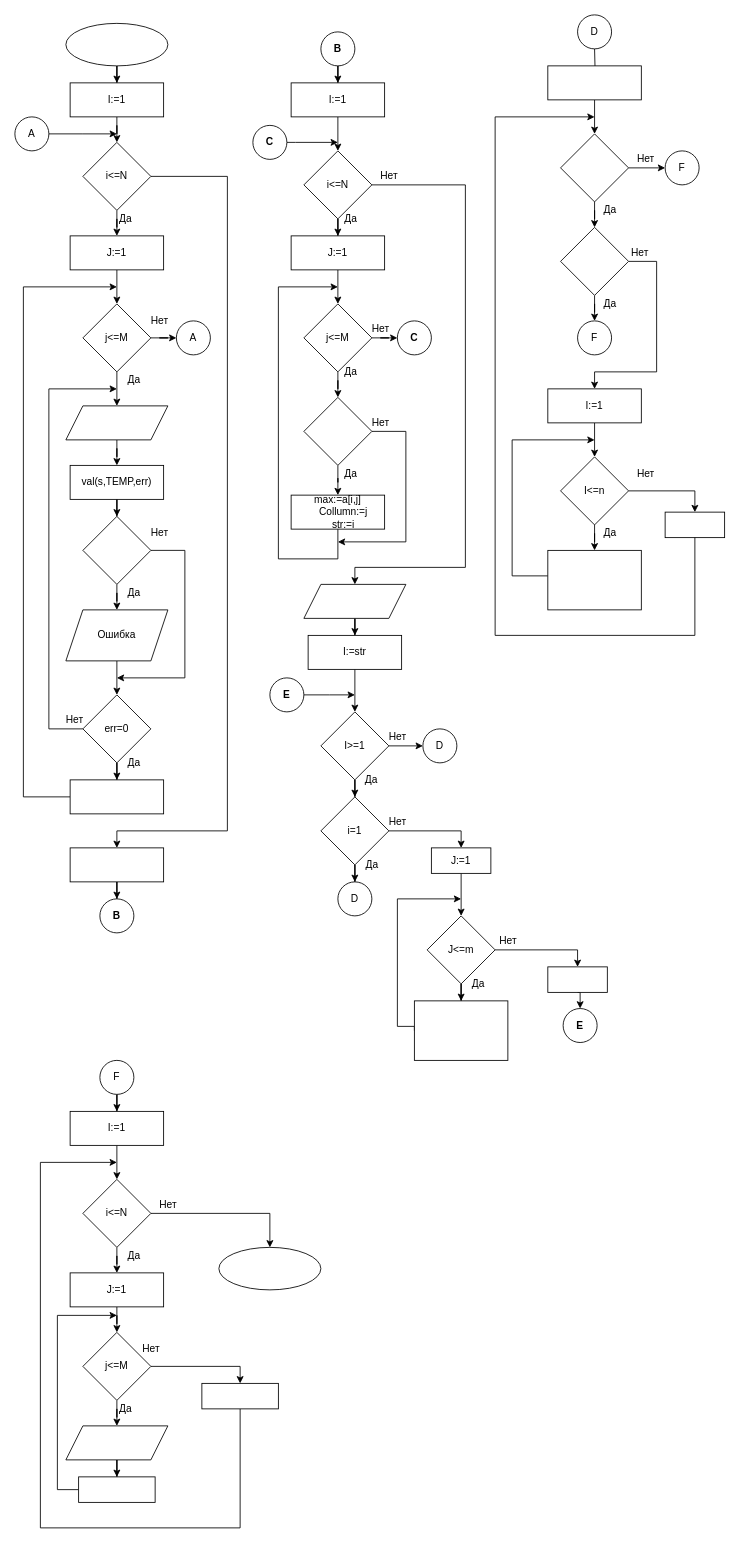
The diagram is 740 pixels wide and 1550 high, and some of its shapes have lost their labels. Each missing label, with the centre of its shape:
"a[i,j]:=strtoint(s)" goes at pixel 116 796.
"err<>0" goes at pixel 116 550.
"i:=i-1" goes at pixel 577 979.
"inc(i)" goes at pixel 239 1396.
"inc(j)" goes at pixel 116 1489.
"J:=collumn" goes at pixel 594 82.
"j:=j-1" goes at pixel 694 524.
"J=1" goes at pixel 594 261.
"J>=1" goes at pixel 594 167.
"max:=0 Collumn:=1 str:=1" goes at pixel 116 864.
"max<a[i,j]" goes at pixel 337 431.
"temp1:=a[i,j] temp2:=a[i,j-1] a[i,j-1]:=temp1 a[i,j]:=temp2 inc(i)" goes at pixel 594 580.
"temp1:=a[i,j] temp2:=a[i-1,j] a[i-1,j]:=temp1 a[i,j]:=temp2 inc(j)" goes at pixel 461 1030.
"Ввод a[i,j]" goes at pixel 116 422.
"Вывод a[I,J]" goes at pixel 116 1442.
"Вывод a[max]" goes at pixel 354 601.
"КОНЕЦ" goes at pixel 269 1268.
"НАЧАЛО" goes at pixel 116 44.
